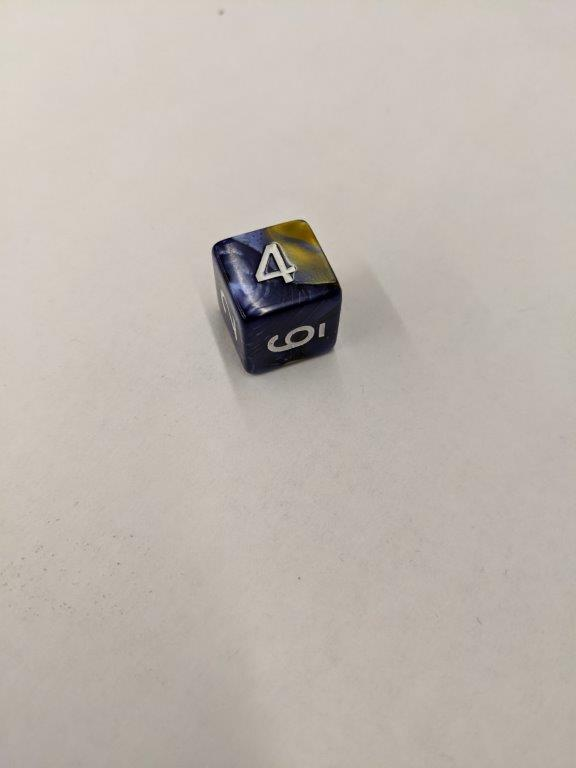d6-4: (210, 216, 344, 374)
